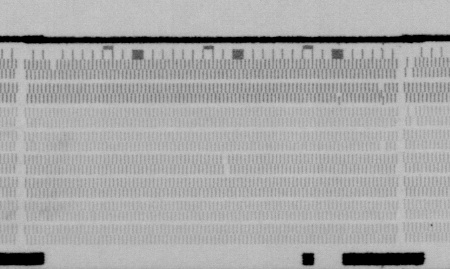Broken hole: (218, 153, 233, 177), (407, 103, 420, 129), (404, 58, 417, 79), (47, 60, 59, 73), (377, 141, 388, 152)
Oblique printing: (375, 82, 388, 106), (334, 91, 346, 107)
